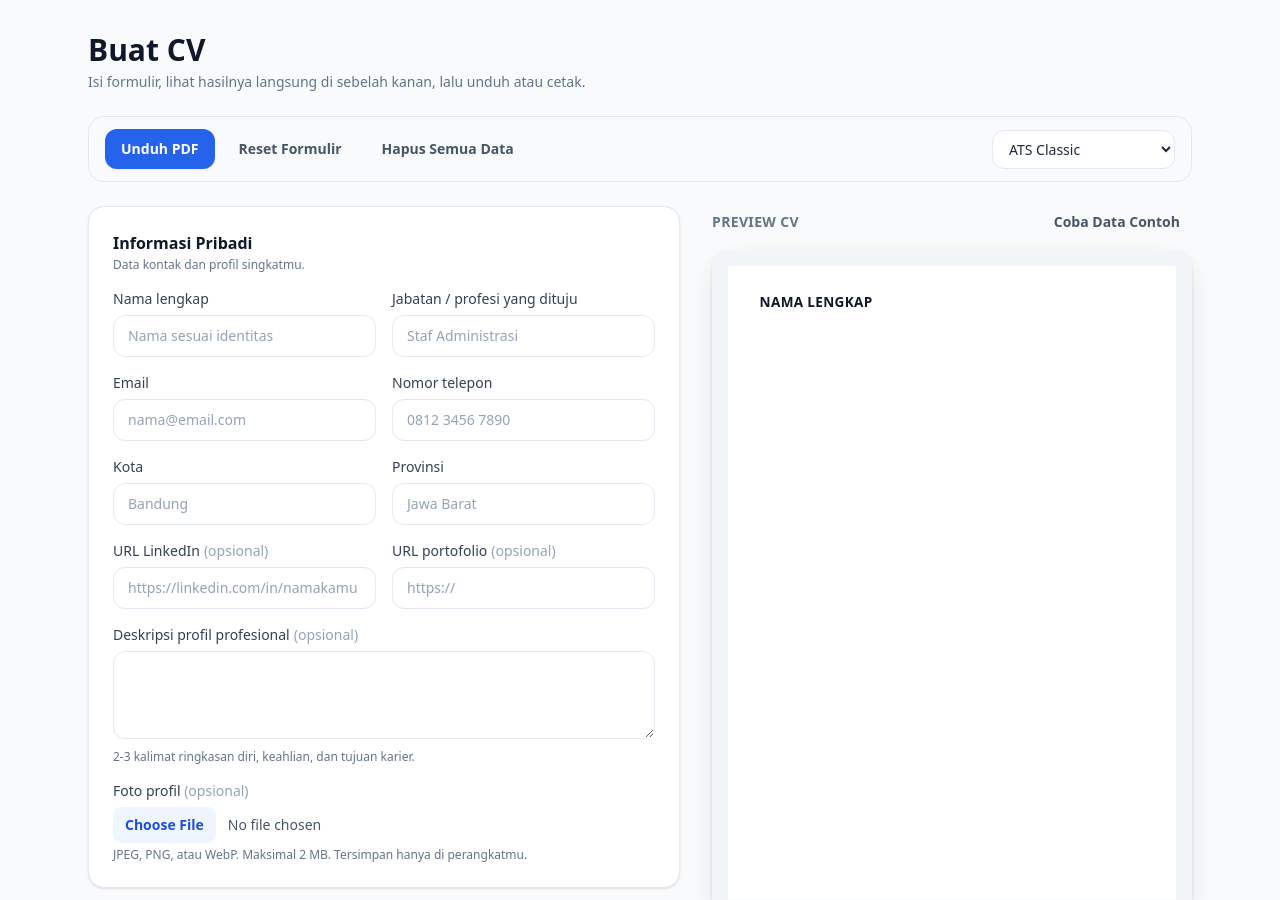
Scenario: Alur lengkap pembuatan CV (integrasi) › indikator autosave muncul lalu menjadi Tersimpan
Type "Budi Santoso" into the field labelled "Nama lengkap".
click(244, 336); type("Budi Santoso")  # box 113,315 -> 376,357
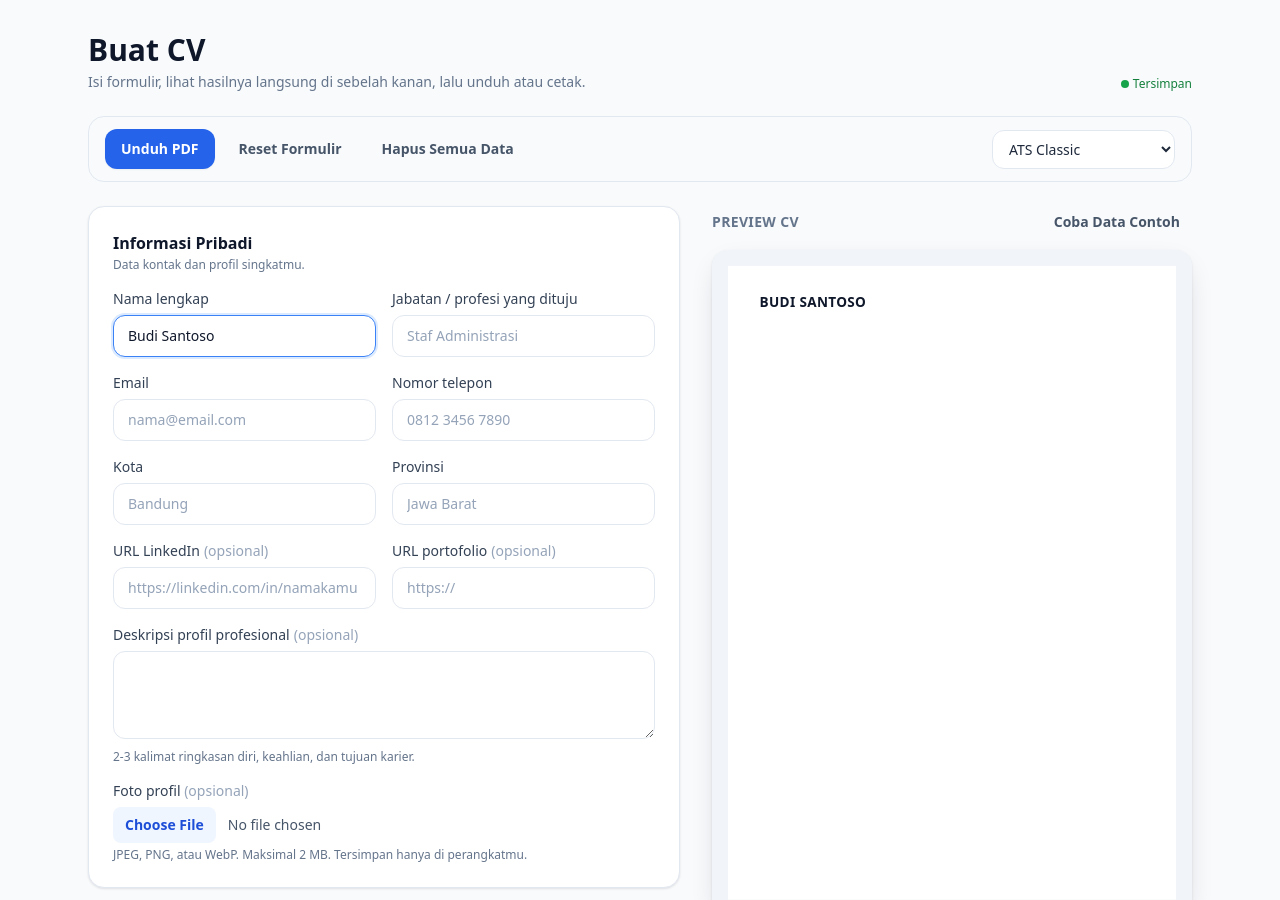
Check: the text "Tersimpan" is shown, box 1121,76 -> 1192,92
